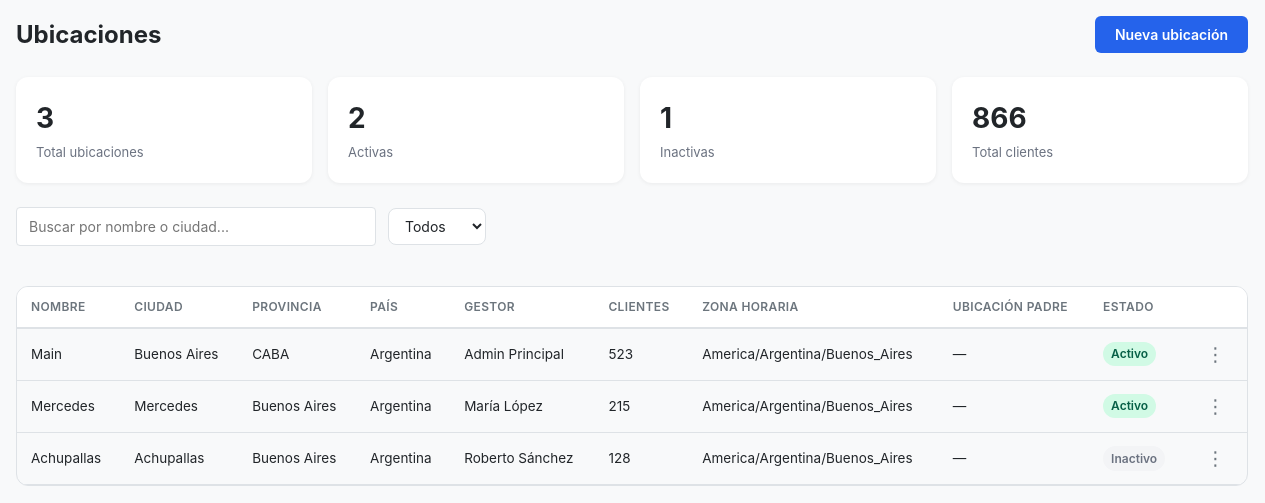
Test: LocationsPage › search by name filters table rows
Type "Mercedes" into the field with placeholder "Buscar por nombre o ciudad..." at [196, 226], box 16,206 -> 376,246
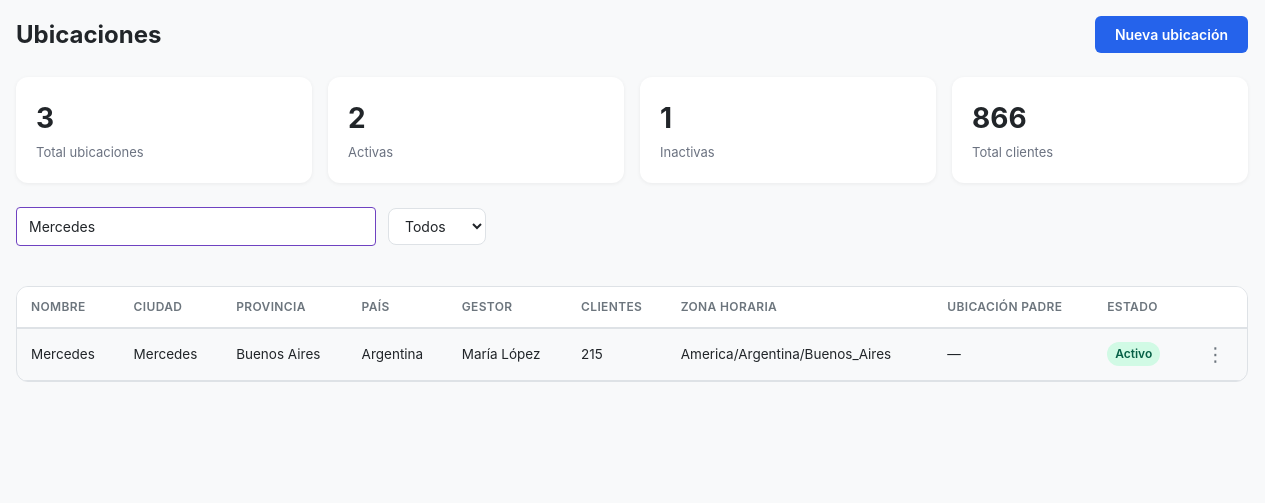
Expected: the text "Achupallas" is gone
